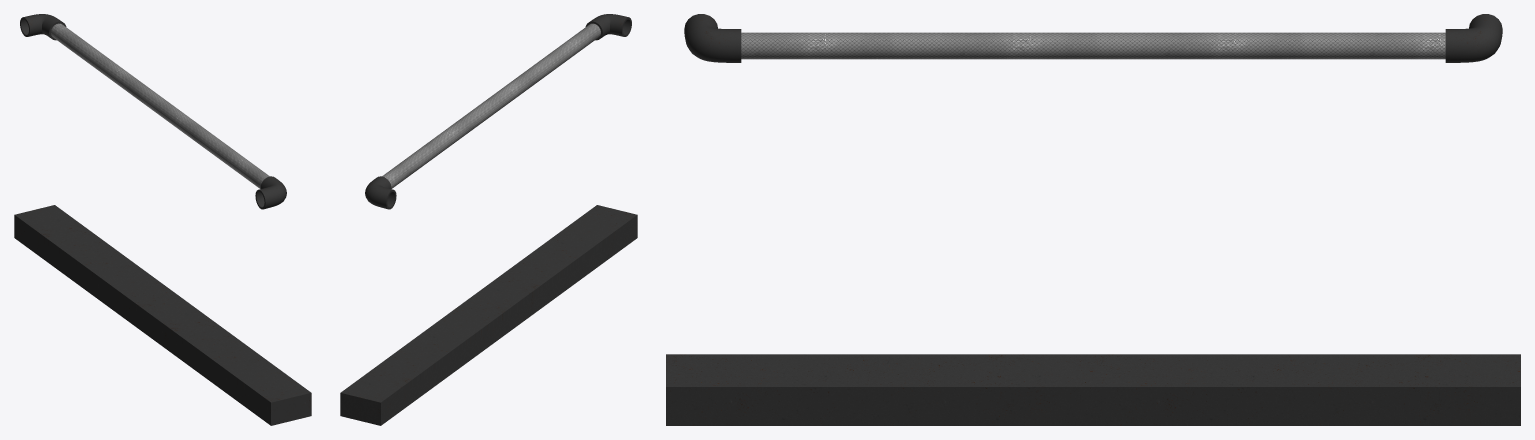
The model's file is CatWalk_End.fbx.
3 views of the same model, side by side, from view 1: azimuth 30°, elevation 25°; view 2: azimuth 150°, elevation 25°; view 3: azimuth 270°, elevation 25° (orthographic). The views are drawn at different scales.
Parts seen in each view (by area): view 1: CatWalk_End; view 2: CatWalk_End; view 3: CatWalk_End.
Boxes of the visible parts, x1,y1,x2,y2 form: CatWalk_End: (14,14,311,425); CatWalk_End: (340,14,637,425); CatWalk_End: (666,14,1520,425).
Bounding box in the file's own units: 0.3636 × 1.96 × 4.
